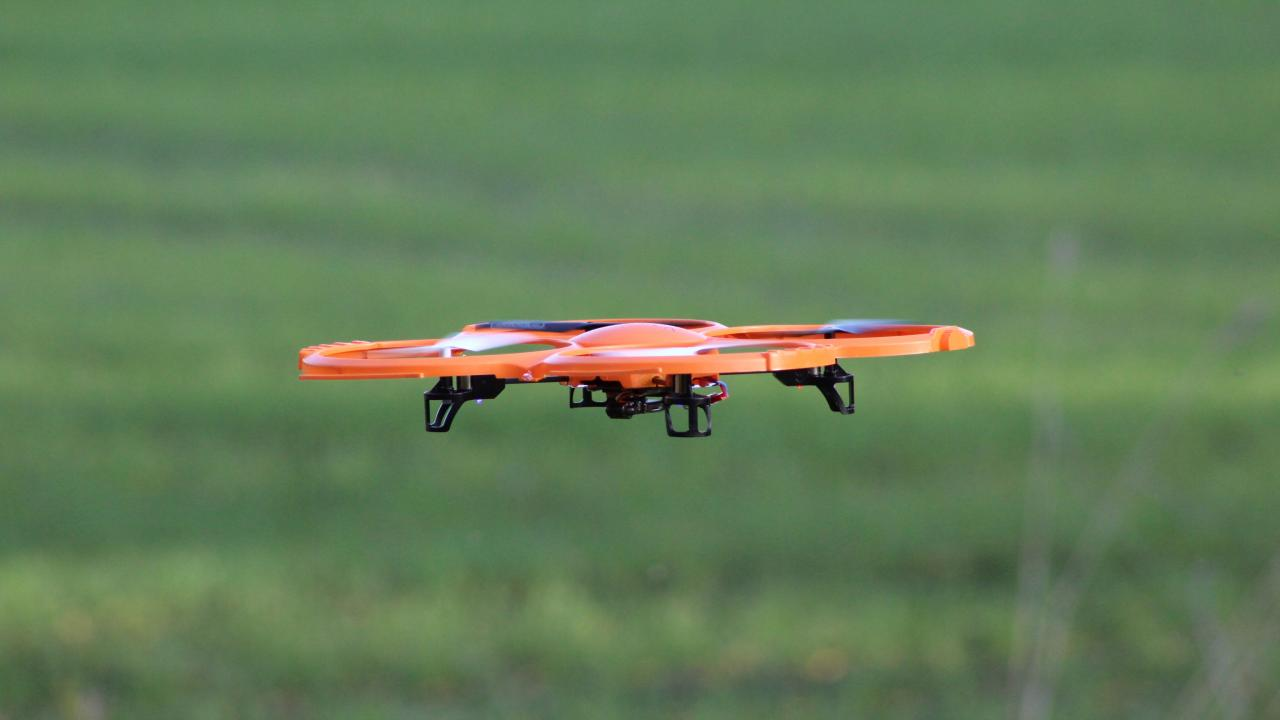Drone: (270, 292, 991, 447)
